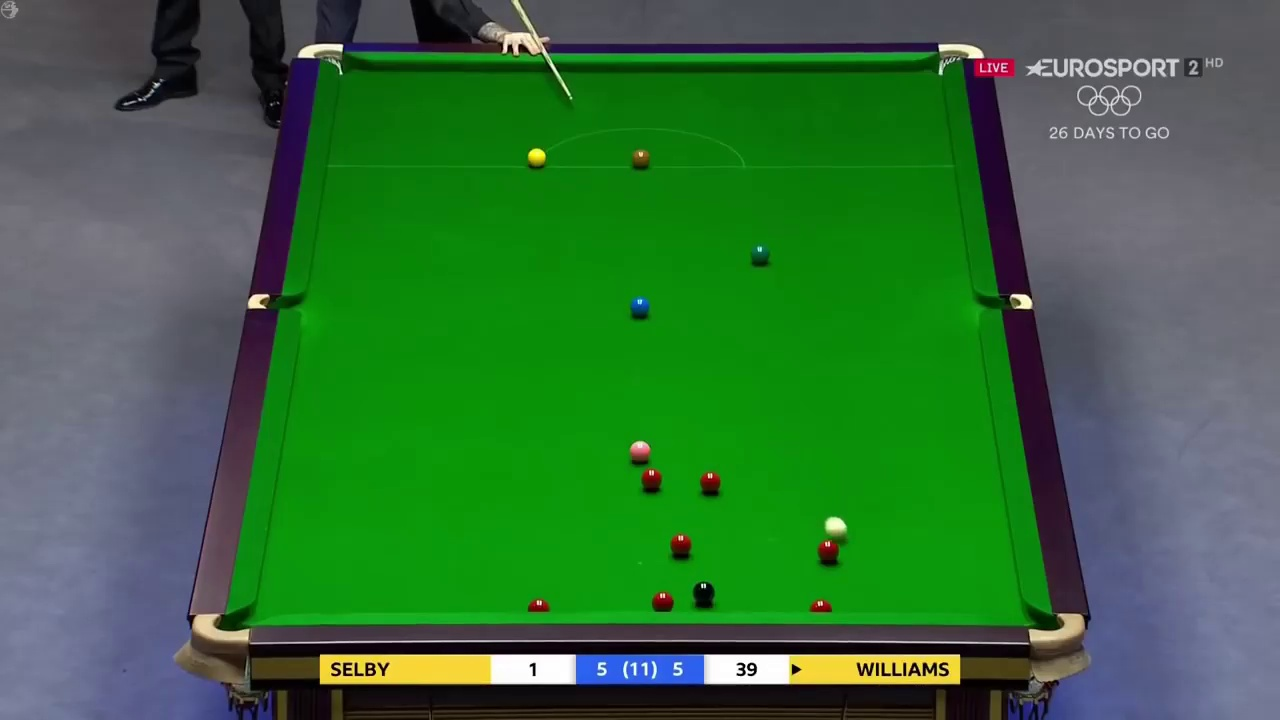ball: (691, 579, 716, 607), (627, 441, 652, 464), (816, 538, 838, 564), (628, 293, 650, 318), (747, 241, 771, 263), (700, 468, 719, 492), (672, 532, 690, 557), (525, 148, 545, 169), (631, 148, 652, 168), (642, 470, 661, 488)
